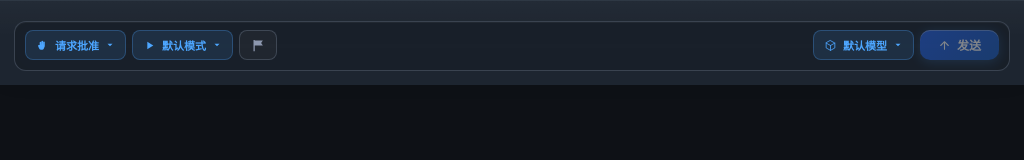
Test case: ComposerBar 任务目标芯片 › 无目标时只有旗子（无角标），点击勾选目标 flag
Expected: the element with class "goal-chip" is shown, [239, 30, 277, 60]
Click the button with class "goal-icon-btn": (258, 45) [246, 33, 270, 57]
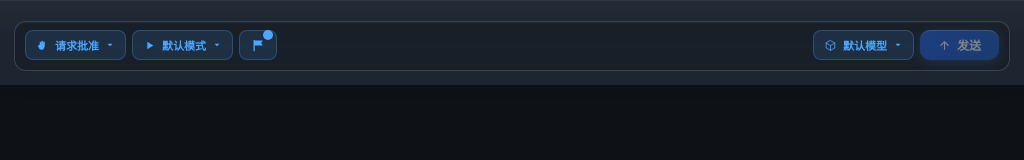
Result: the 1st element with class "has-goal" is shown at [239, 30, 277, 60]
Result: the element with class "goal-check" is empty at [263, 30, 273, 40]
